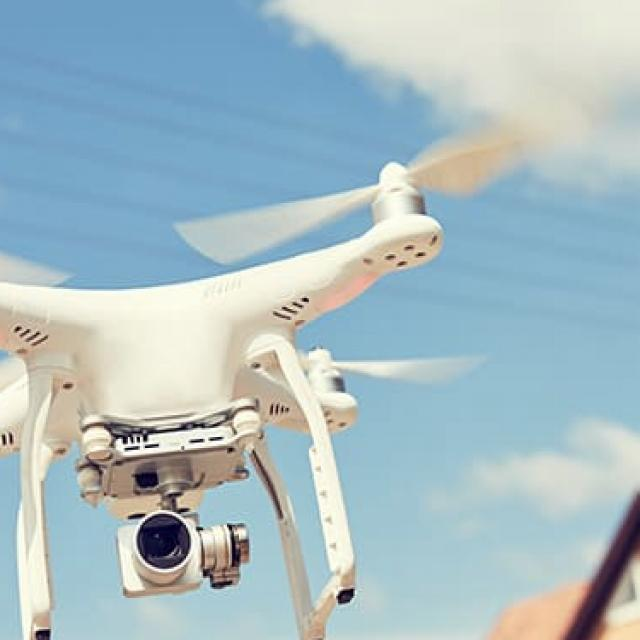drone: (0, 86, 613, 530)
